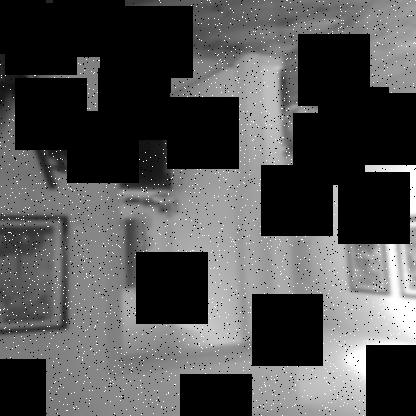Porte: (100, 30, 279, 378)
